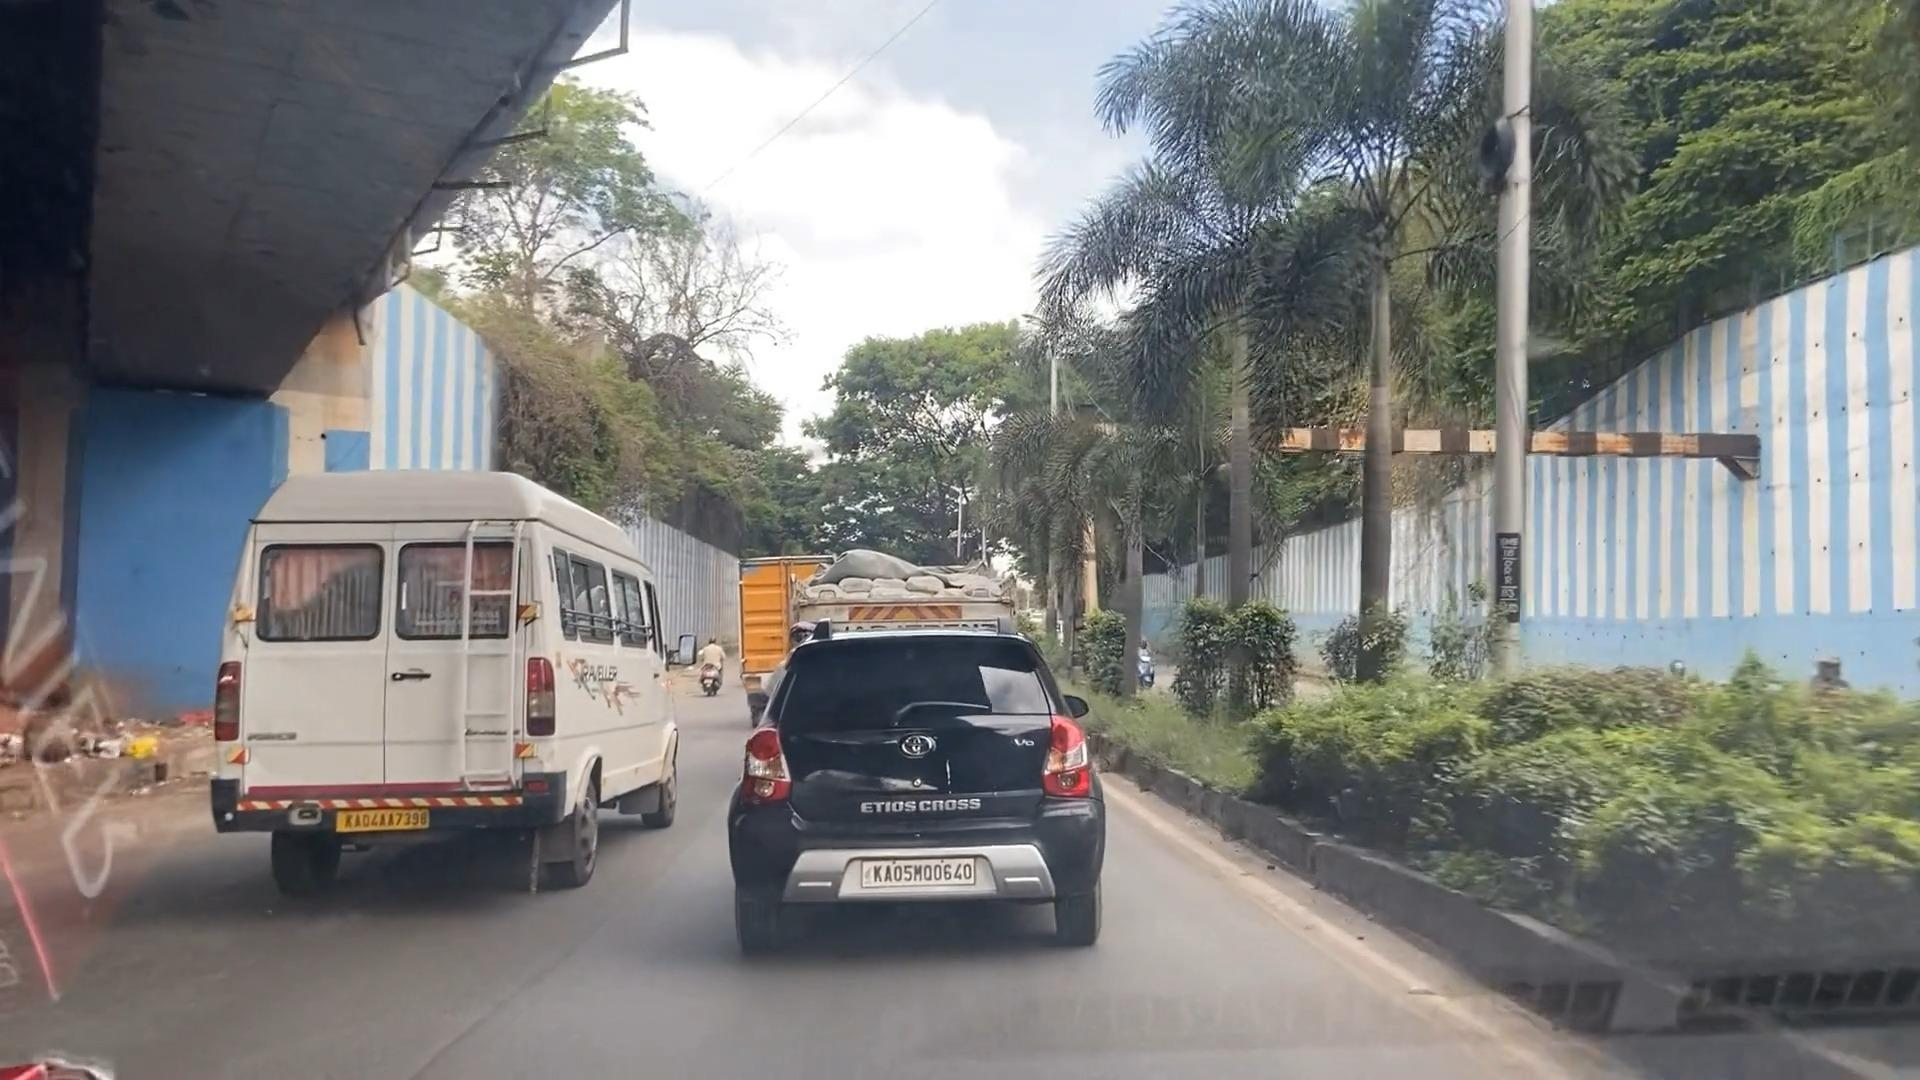HMV: (218, 477, 709, 893)
LMV: (705, 611, 1121, 976)
